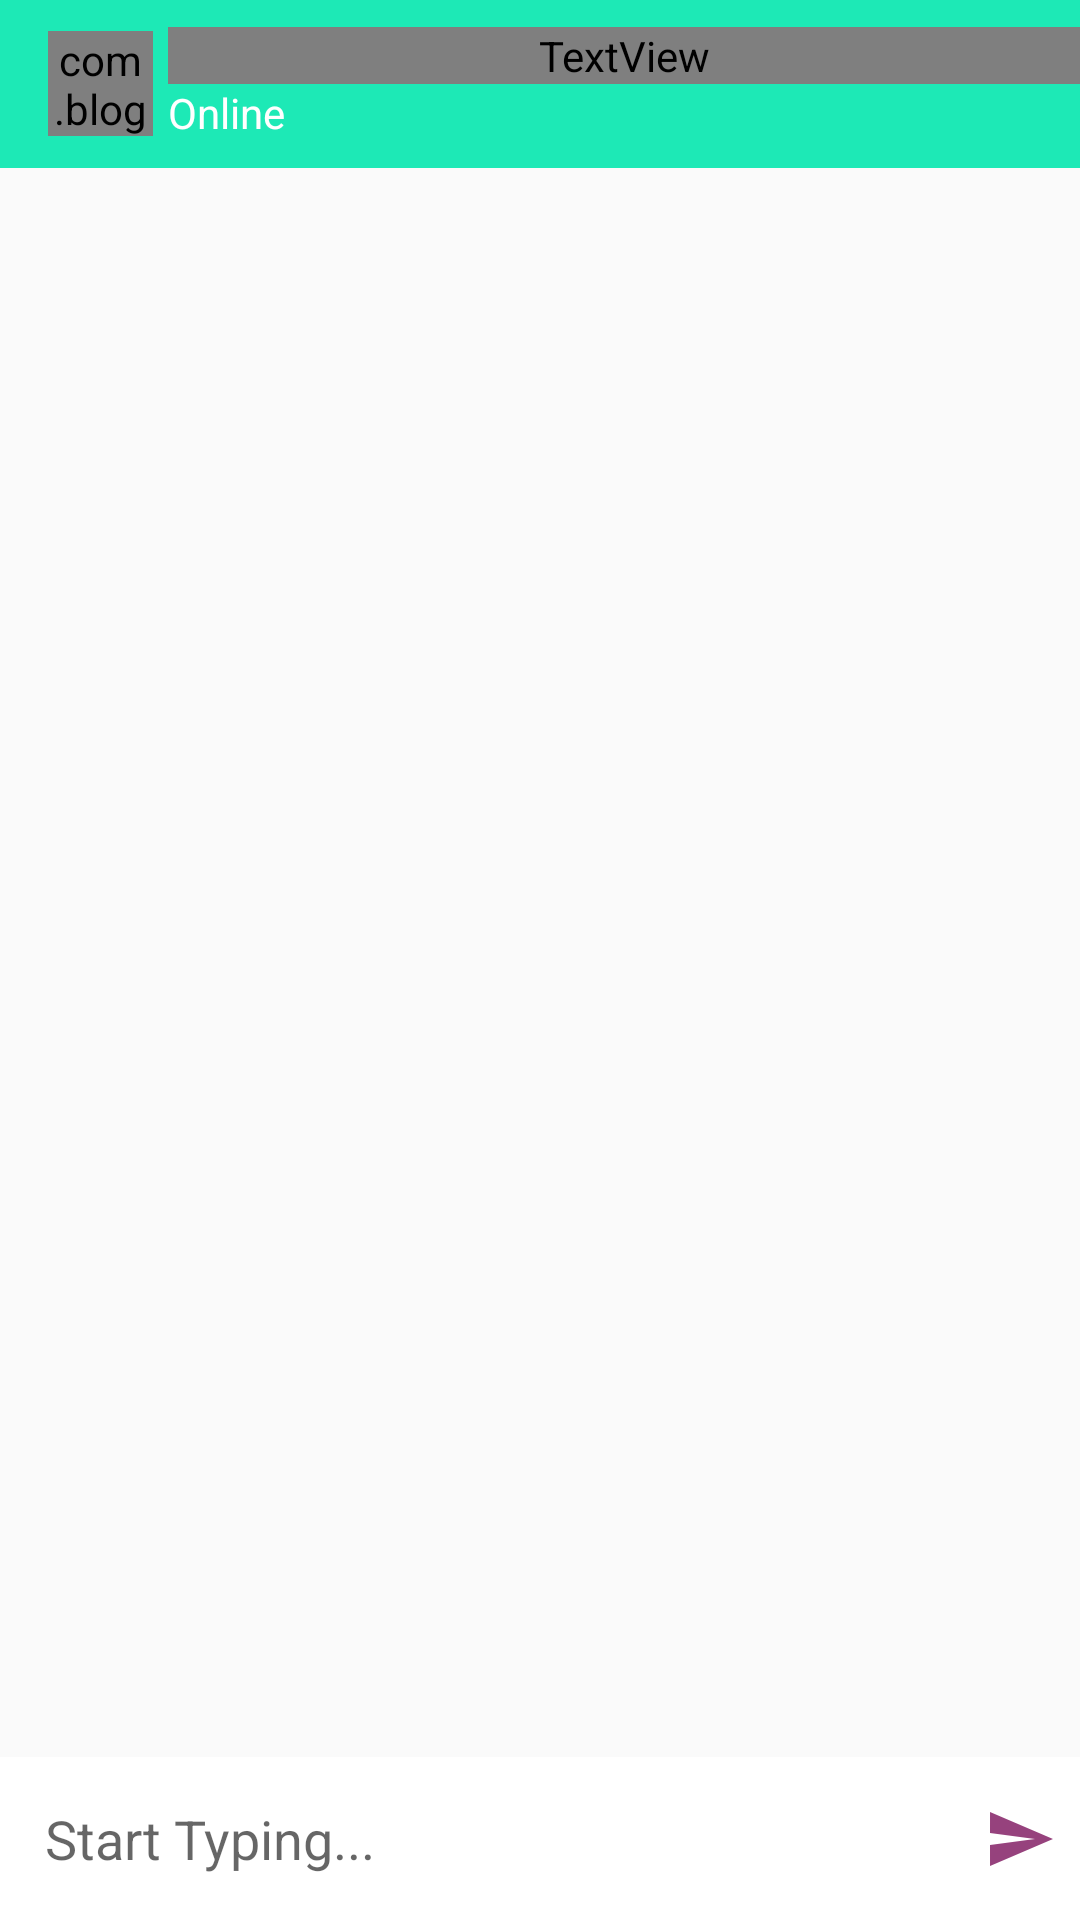

Locate icon controls on the screen. Image size 1080×1920, boxes as (x1, y1, x2, y2).
send: (990, 1812, 1053, 1866)
